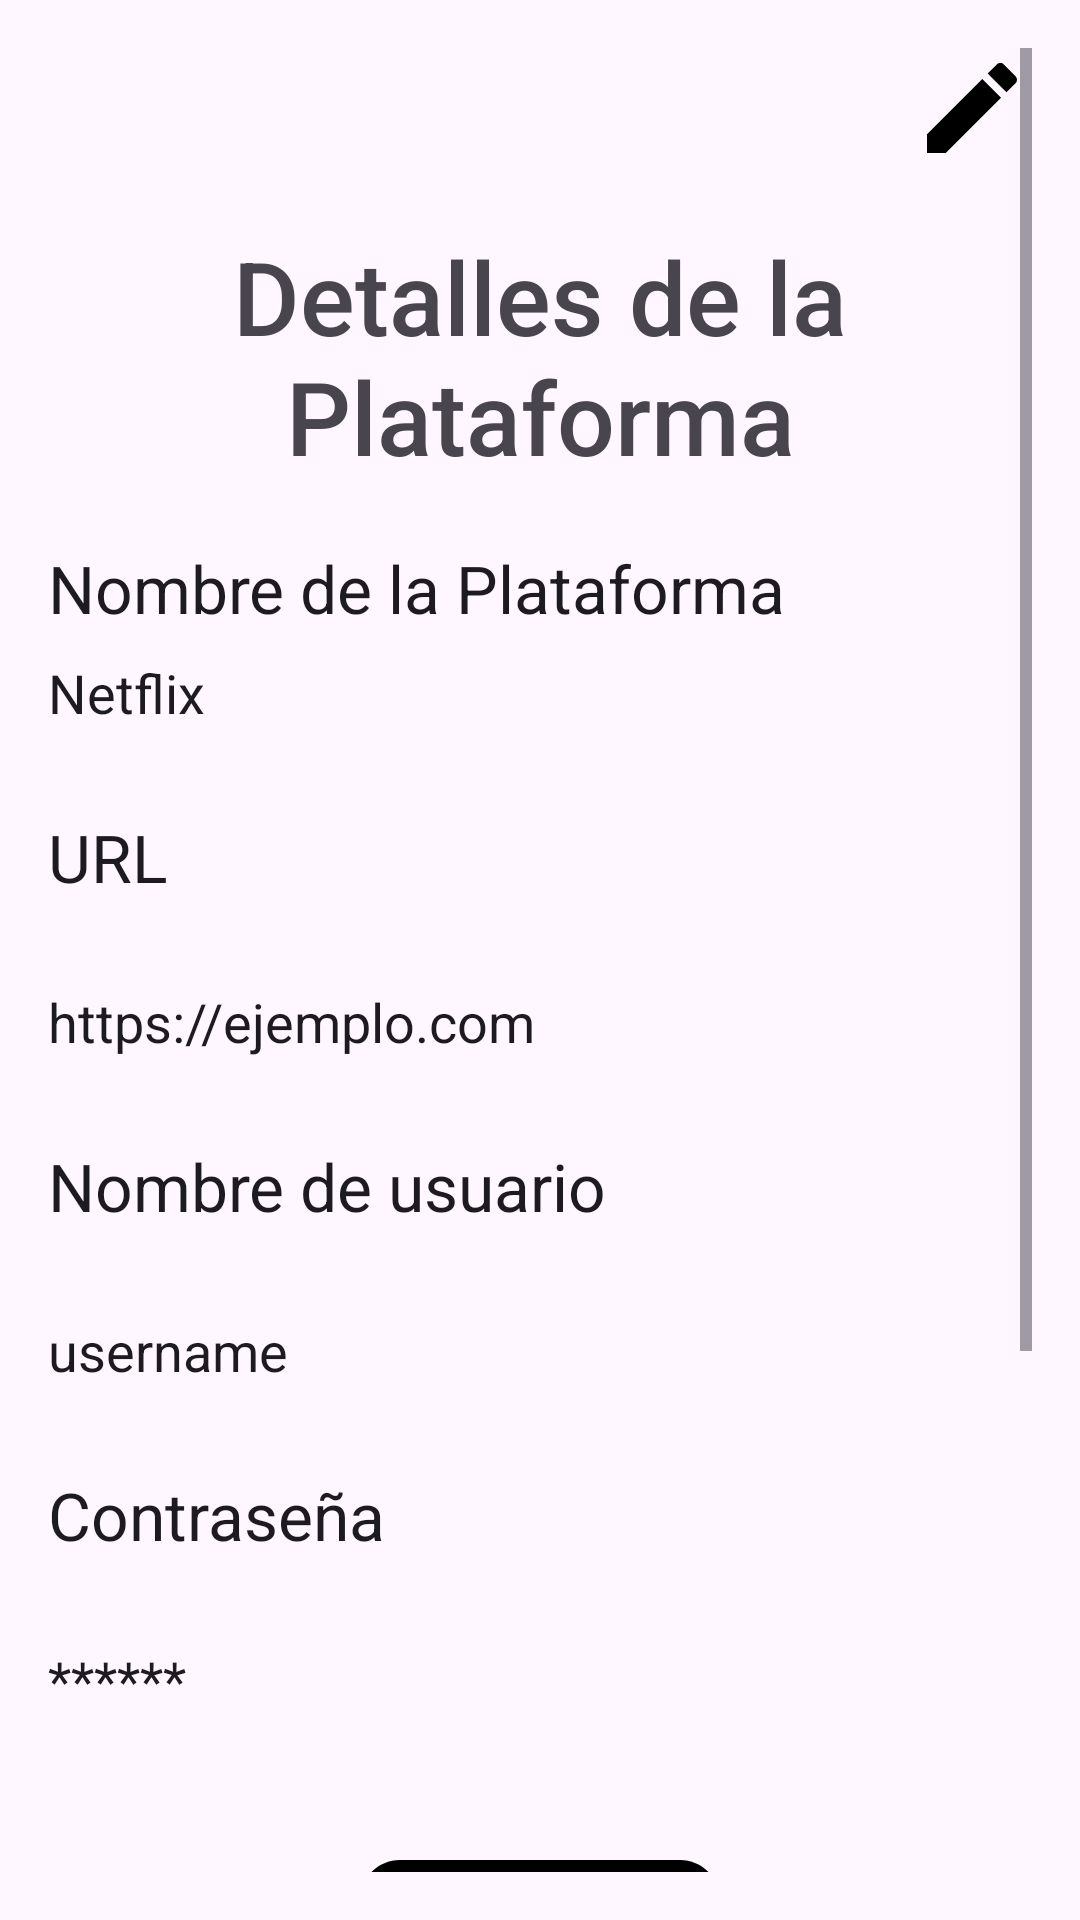

Icon click points for this 1080px x 1920px phone screenshot, format (x,y):
edit: (972,108)
